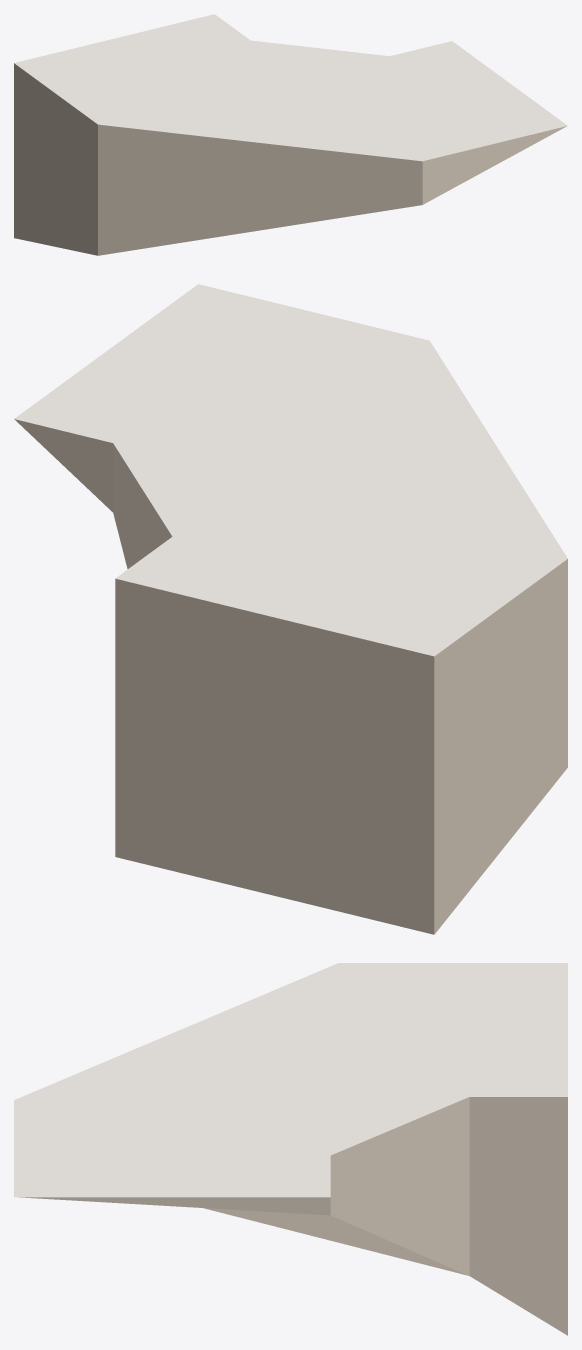
The model's file is Stairs_Under_Ramp_Curved.glb.
3 renders of one model, top to bottom at view 1: azimuth 30°, elevation 25°; view 2: azimuth 150°, elevation 25°; view 3: azimuth 270°, elevation 25°, orthographic. The views are drawn at different scales.
Parts seen in each view (by area): view 1: Stairs_Under_Ramp_Curved; view 2: Stairs_Under_Ramp_Curved; view 3: Stairs_Under_Ramp_Curved.
Part boxes in pixels (x1=…): Stairs_Under_Ramp_Curved: x1=14, y1=14, x2=567, y2=255; Stairs_Under_Ramp_Curved: x1=14, y1=284, x2=567, y2=934; Stairs_Under_Ramp_Curved: x1=14, y1=963, x2=567, y2=1335.
Size of the model in its own units: 2.1 by 1 by 2.1.
